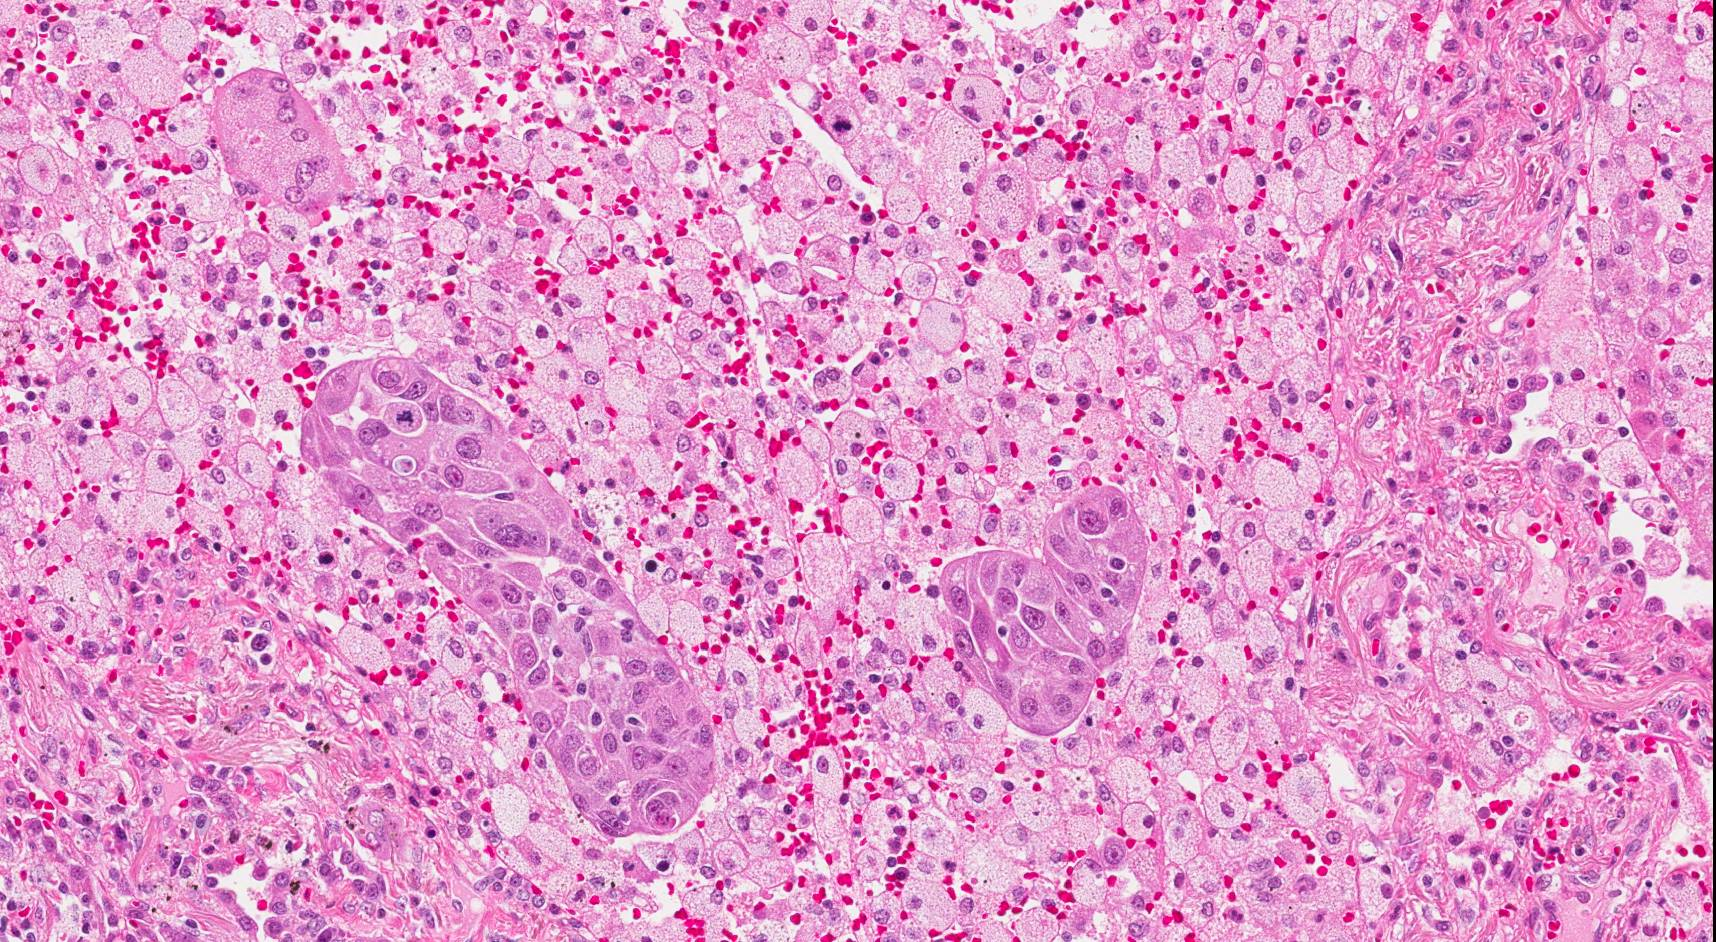stas: (293, 349, 720, 837), (933, 481, 1146, 737)
